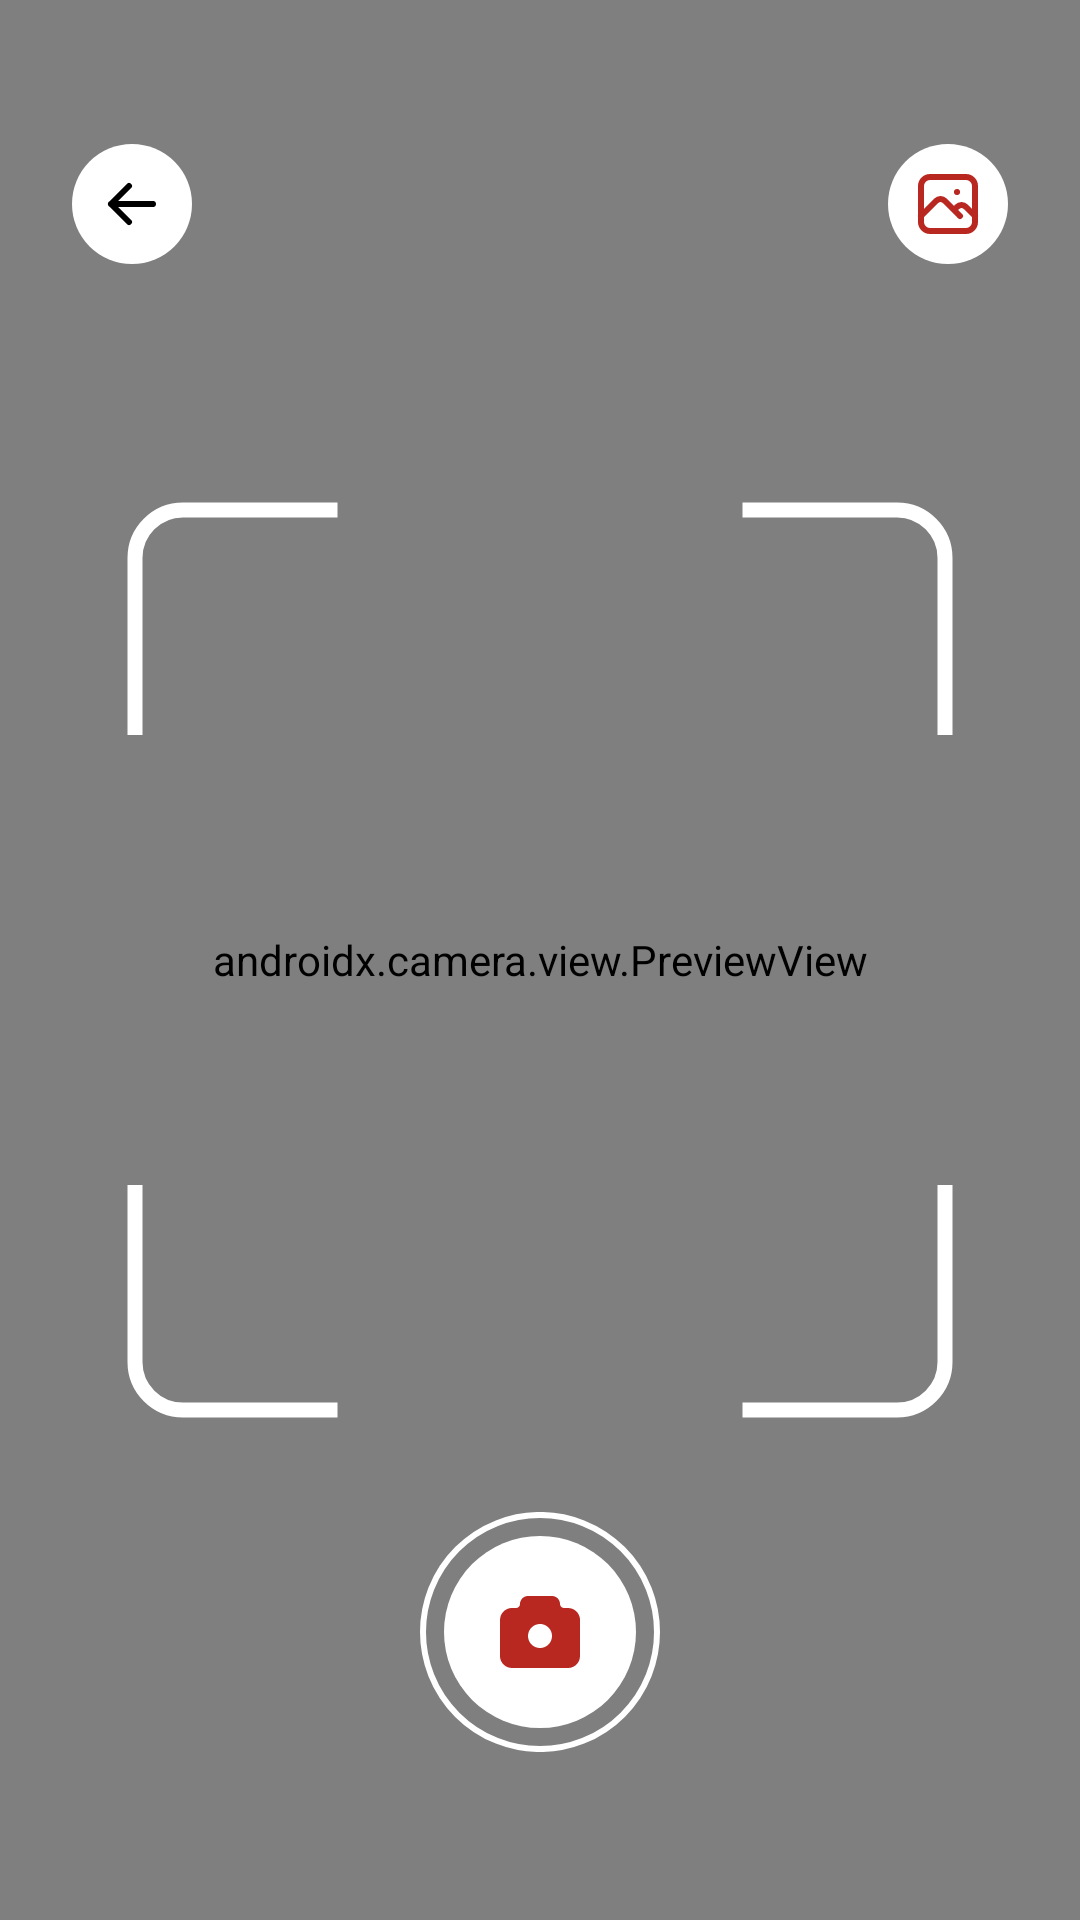

Where to tap for icons on this 1080 × 1920 app screen, as [x,y]:
camera back: [132,204]
camera photos: [948,204]
capture: [540,1632]
